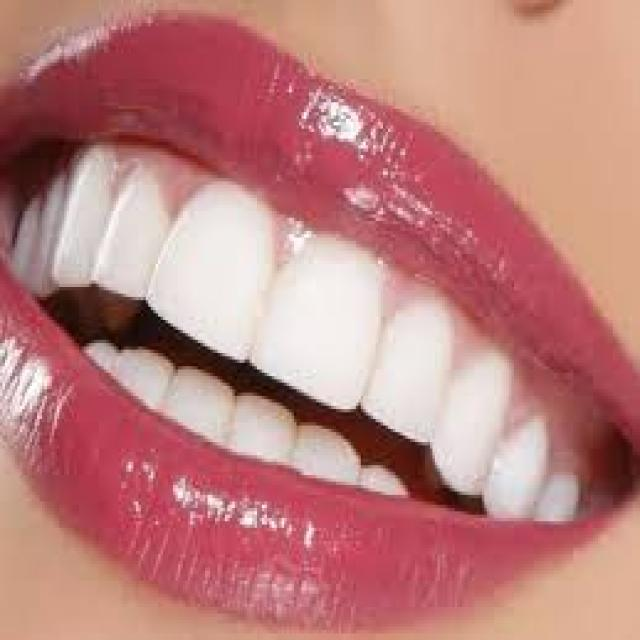tooth: (296, 231, 358, 393), (183, 211, 252, 340), (452, 353, 492, 485), (395, 307, 435, 429), (170, 363, 228, 439), (234, 392, 286, 462), (114, 191, 148, 287), (296, 422, 354, 478), (67, 171, 96, 274), (502, 426, 534, 518), (116, 350, 166, 402), (34, 194, 54, 284), (15, 202, 34, 280), (546, 468, 571, 518), (361, 465, 403, 492)
